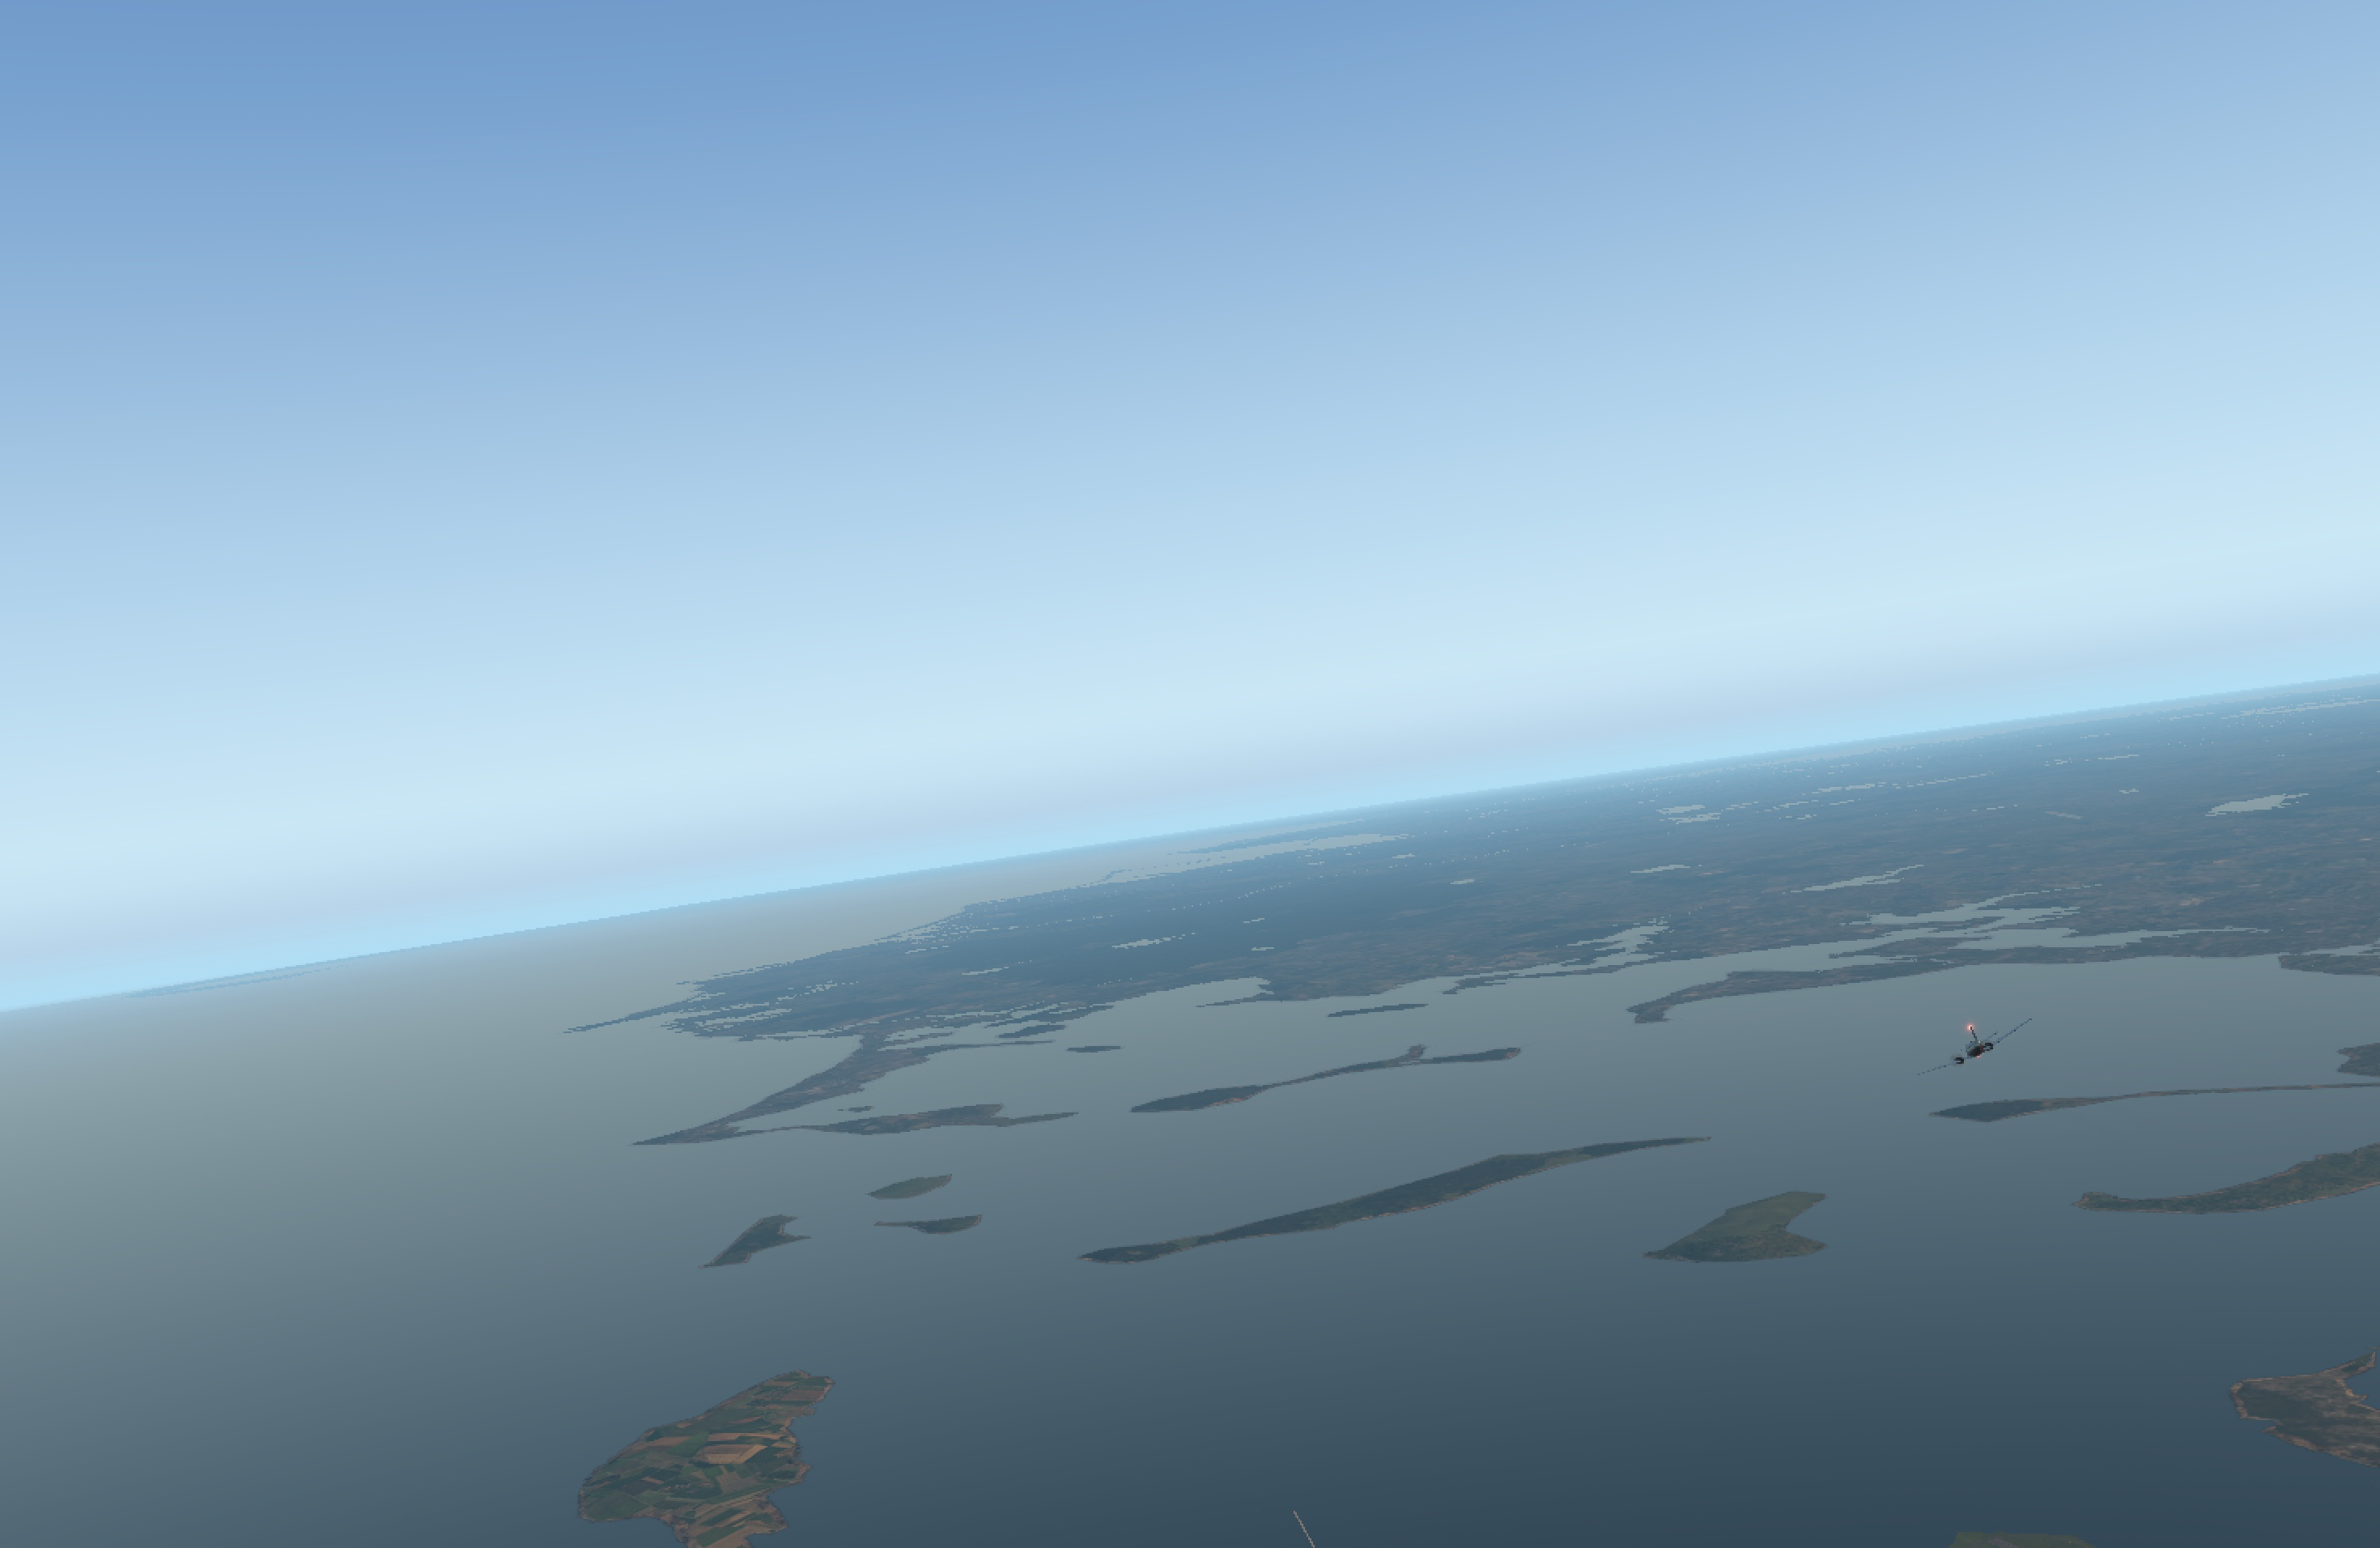aircraft: (1917, 1033, 2037, 1078)
